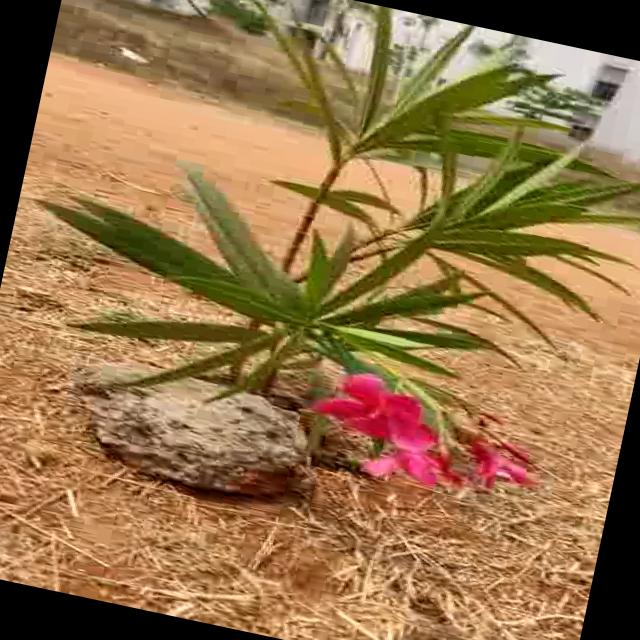OLEANDER: (29, 0, 640, 471)
